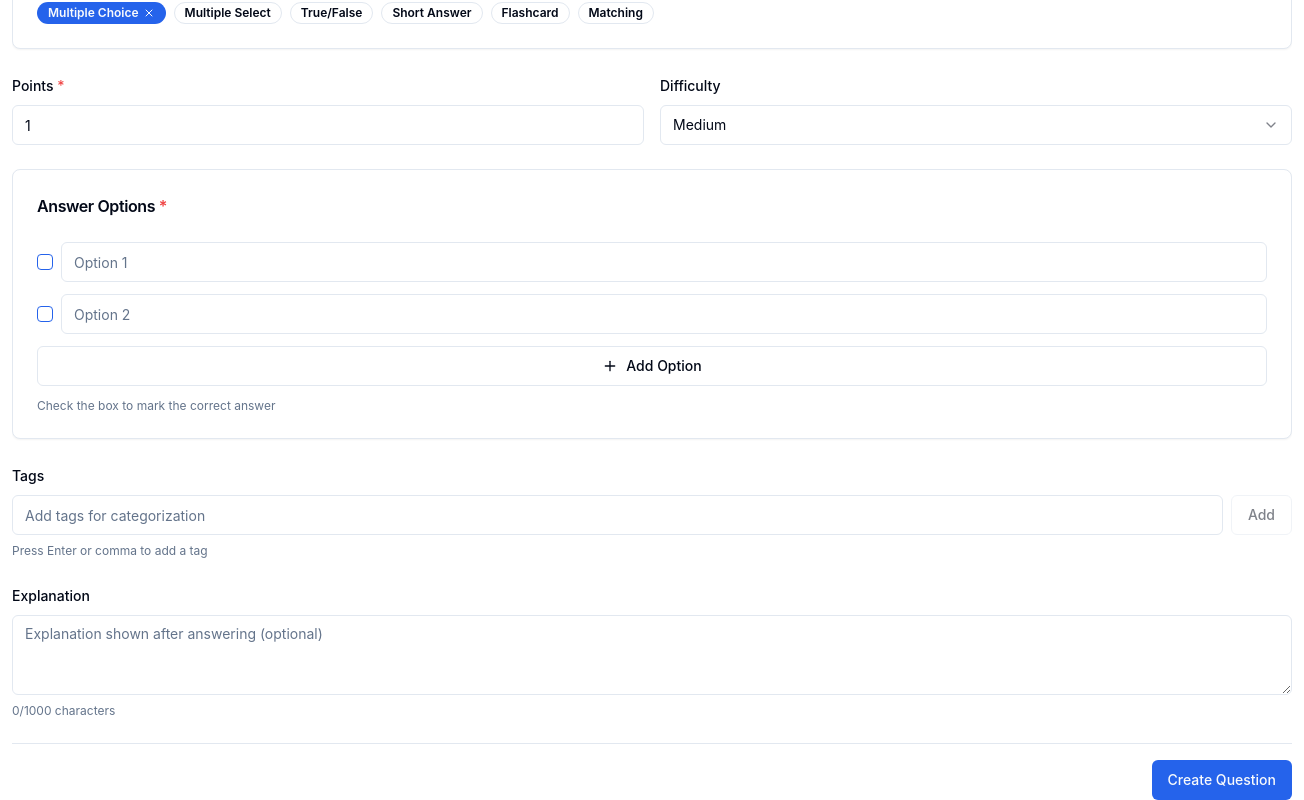
QuestionForm › Question Text Field › should show validation error for empty question text
(page scrolled)
Click the button "Create Question": point(1222, 780) x1=1152 y1=760 x2=1292 y2=799
(page scrolled)
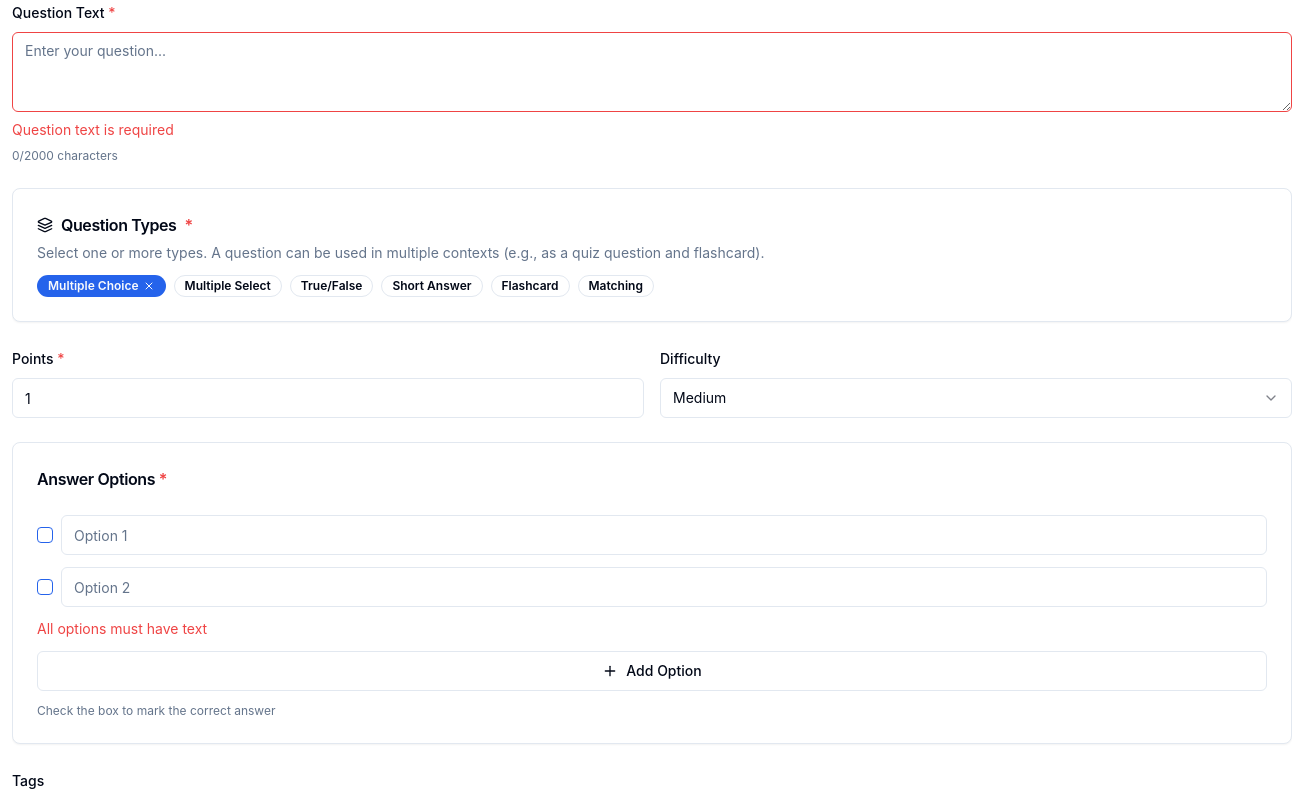
Result: the text "Question text is required" is shown at x1=12 y1=121 x2=174 y2=138
